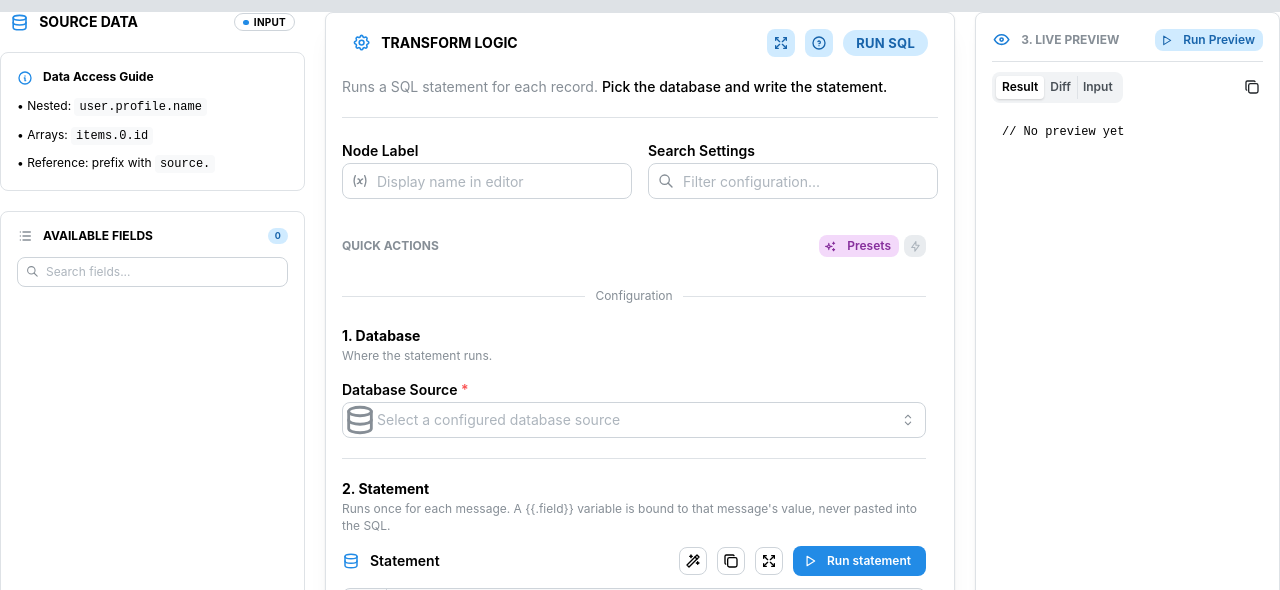
execute_sql live preview › runs it once when Run Preview is pressed
The image size is (1280, 590).
Click the button "Run Preview".
click(1209, 40)  # box [1155, 29, 1263, 51]
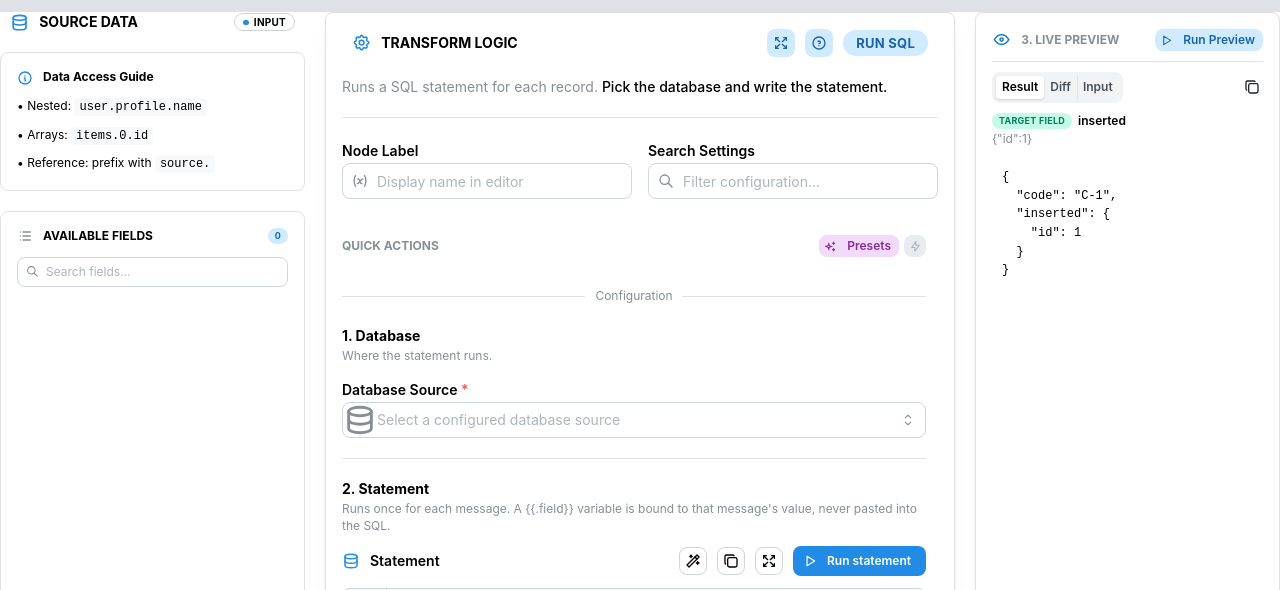
Expected: the text "{ \"code\": \"C-1\", \"inserted\": { \"id\": 1 } }" is shown, [1002, 170, 1117, 277]
